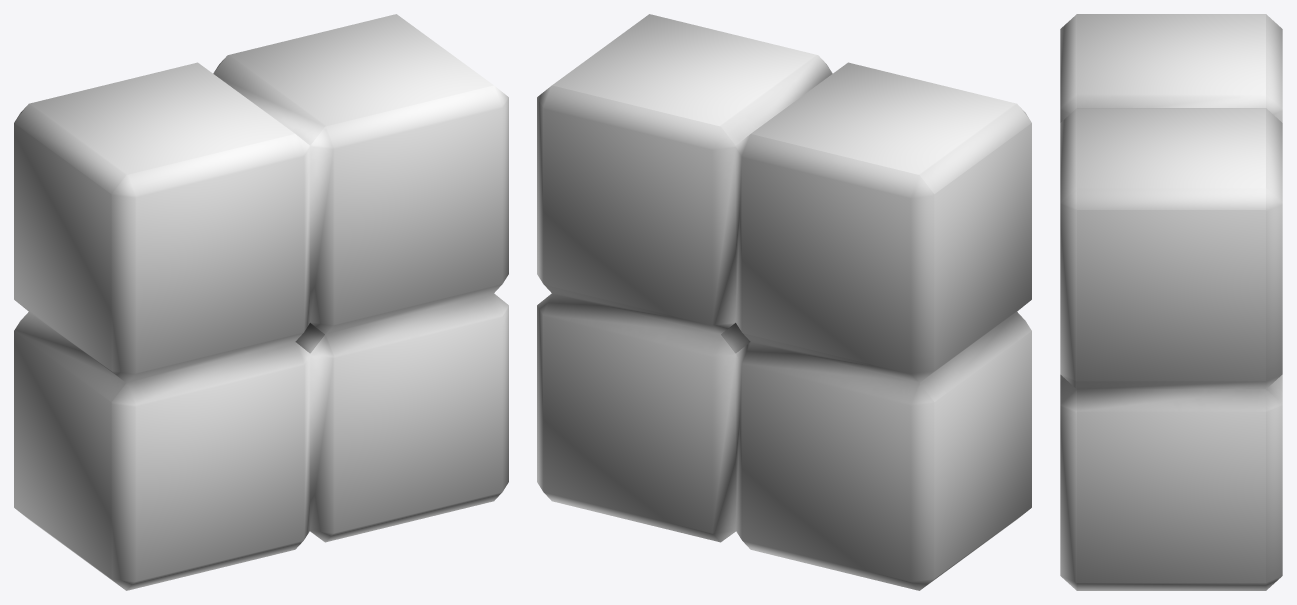
3 views of the same model, side by side, from view 1: azimuth 30°, elevation 25°; view 2: azimuth 150°, elevation 25°; view 3: azimuth 270°, elevation 25° (orthographic). The views are drawn at different scales.
Visible parts, largest first — view 1: O-shape; view 2: O-shape; view 3: O-shape.
Part boxes in pixels (x1,y1,x2,y2): O-shape: (14,14,508,590); O-shape: (537,14,1031,590); O-shape: (1060,14,1282,590).
Size of the model in its own units: 2 by 2 by 1.
